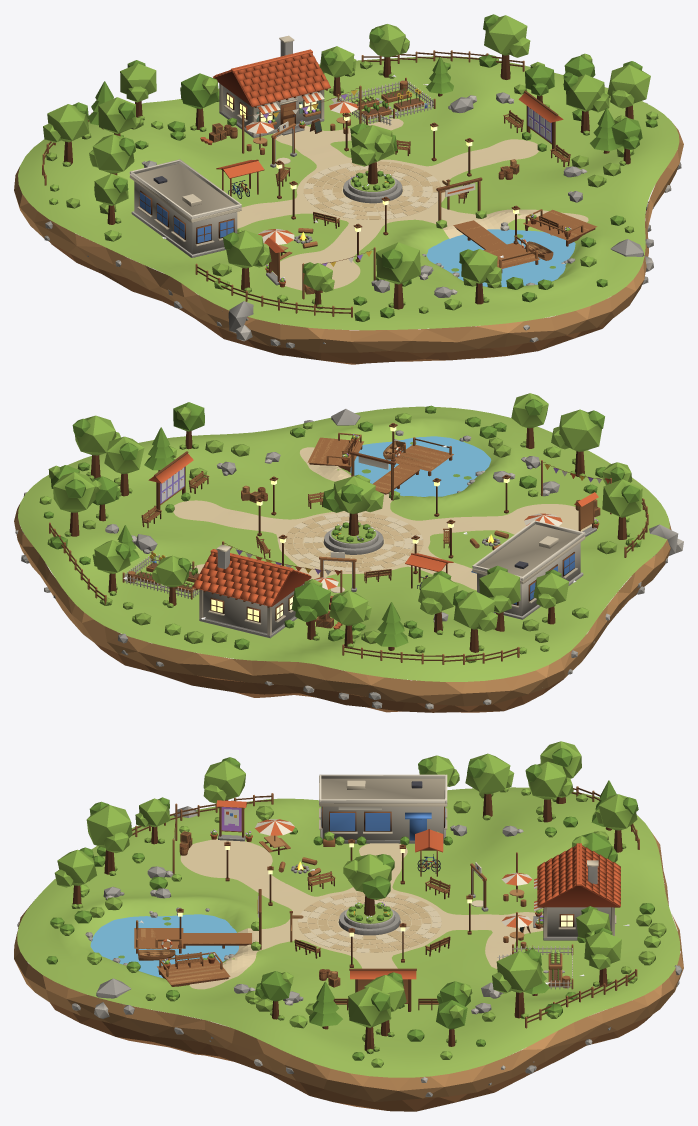
File: island-lite.glb
3 views of the same model, one above another, from view 1: azimuth 30°, elevation 25°; view 2: azimuth 150°, elevation 25°; view 3: azimuth 270°, elevation 25° (orthographic). The views are drawn at different scales.
Visible parts, largest first — view 1: walk_ground, island_base, walk_path, lm_gallery, lm_studio, deco_bushes, deco_paving, water_pond, block_planter, block_garden, block_tree_05, block_tree_21 (+29 smaller); view 2: walk_ground, island_base, walk_path, lm_studio, deco_bushes, lm_gallery, deco_paving, water_pond, block_planter, block_tree_21, block_tree_14, block_tree_05 (+28 smaller); view 3: walk_ground, island_base, walk_path, lm_gallery, lm_studio, deco_bushes, deco_paving, water_pond, block_planter, block_tree_21, block_tree_05, block_tree_15 (+28 smaller).
Part boxes in pixels (<box>): walk_ground: <box>18,56,679,330</box>; island_base: <box>14,124,683,364</box>; walk_path: <box>237,118,588,290</box>; lm_gallery: <box>129,159,242,257</box>; lm_studio: <box>213,35,330,137</box>; deco_bushes: <box>46,54,658,321</box>; deco_paving: <box>303,161,441,219</box>; water_pond: <box>426,229,575,286</box>; block_planter: <box>343,123,402,203</box>; block_garden: <box>337,77,435,125</box>; block_tree_05: <box>483,14,530,79</box>; block_tree_21: <box>376,242,420,309</box>; walk_ground: <box>18,406,669,681</box>; island_base: <box>14,503,671,712</box>; walk_path: <box>173,447,595,590</box>; lm_studio: <box>192,544,311,638</box>; deco_bushes: <box>39,405,641,662</box>; lm_gallery: <box>471,520,585,619</box>; deco_paving: <box>284,512,423,571</box>; water_pond: <box>350,436,491,496</box>; block_planter: <box>322,474,383,554</box>; block_tree_21: <box>551,409,604,478</box>; block_tree_14: <box>452,590,497,652</box>; block_tree_05: <box>53,472,95,536</box>; walk_ground: <box>17,787,680,1077</box>; island_base: <box>14,833,683,1111</box>; walk_path: <box>180,839,543,989</box>; lm_gallery: <box>319,774,447,846</box>; lm_studio: <box>533,843,620,940</box>; deco_bushes: <box>46,788,666,1067</box>; deco_paving: <box>297,892,441,952</box>; water_pond: <box>90,914,238,977</box>; block_planter: <box>338,854,400,935</box>; block_tree_21: <box>86,801,132,875</box>; block_tree_05: <box>492,949,542,1018</box>; block_tree_15: <box>465,753,514,820</box>.
Bounding box in the file's own units: 51.3 × 15.6 × 49.56.
